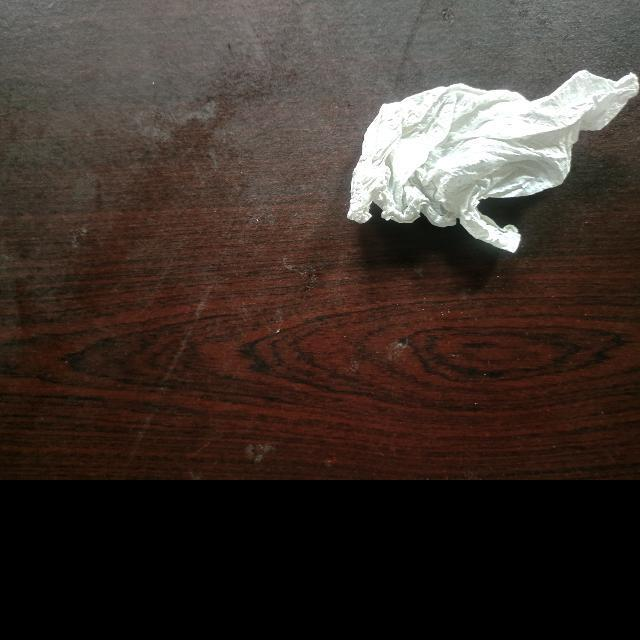kitchen paper: (340, 59, 640, 258)
